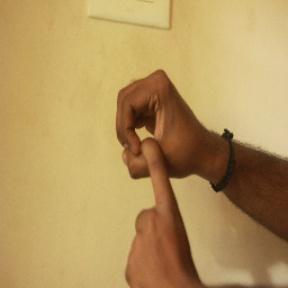Q: (107, 63, 210, 281)
